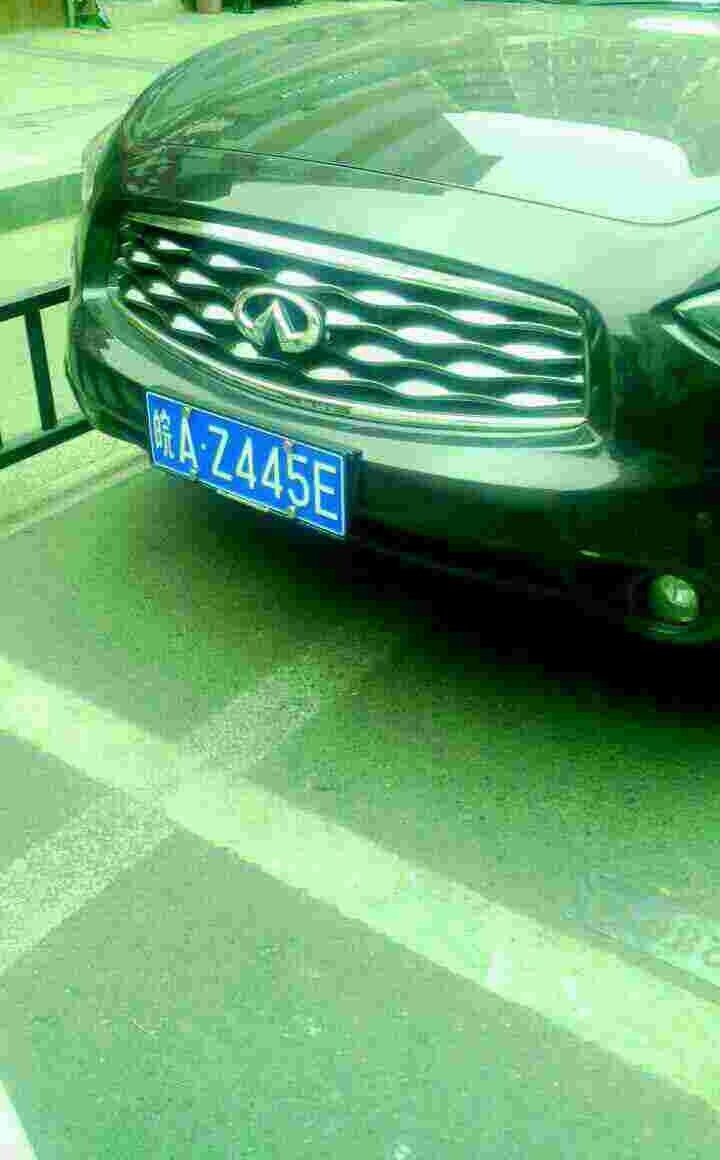license_plate: (156, 386, 346, 540)
